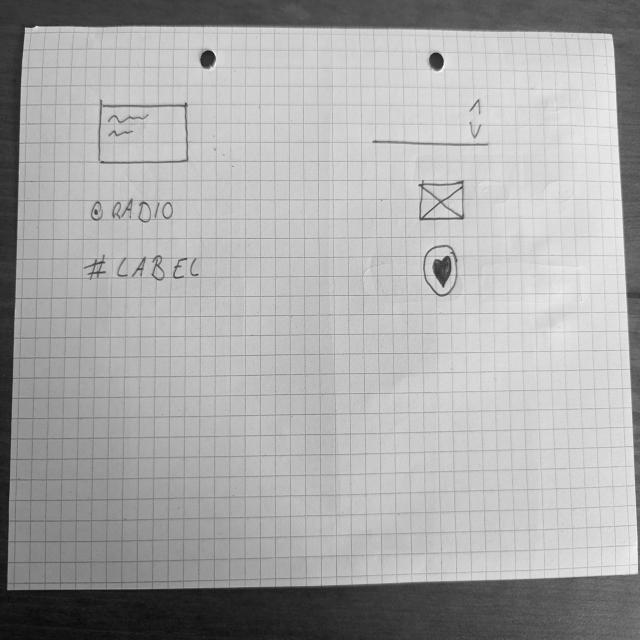icon-button: (421, 243, 462, 303)
image: (418, 178, 470, 224)
label: (83, 255, 203, 285)
number-input: (372, 96, 494, 150)
radio: (90, 197, 108, 227)
textarea: (98, 100, 192, 170)
